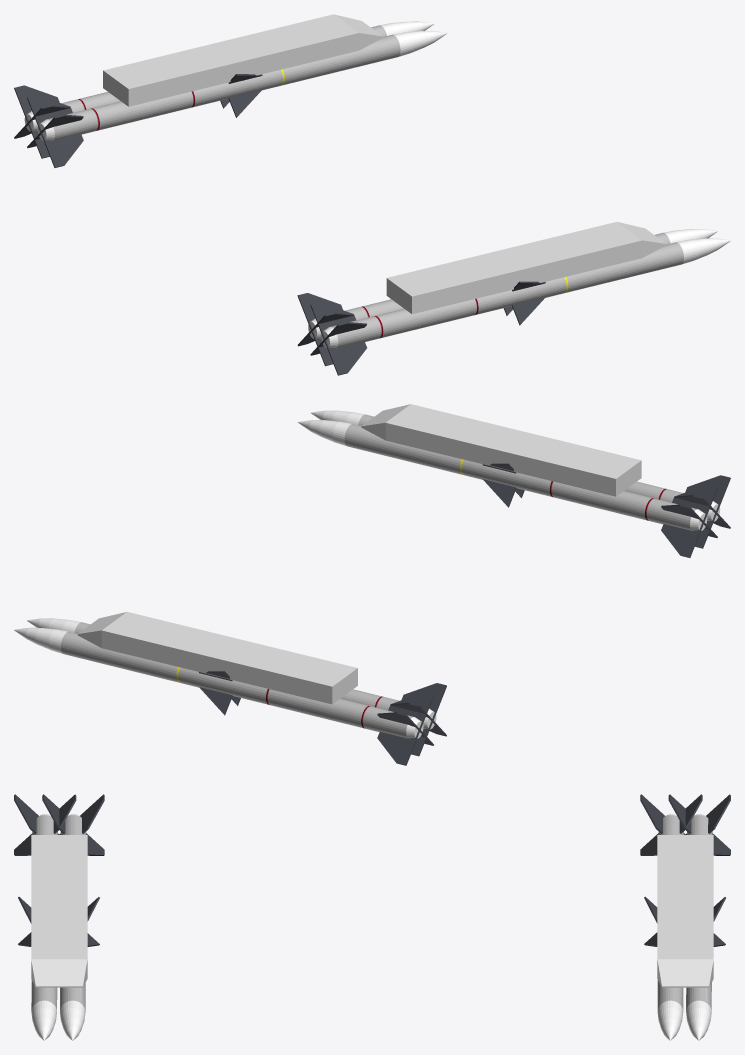
File: f15exaim120510.glb
3 renders of one model, top to bottom at view 1: azimuth 30°, elevation 25°; view 2: azimuth 150°, elevation 25°; view 3: azimuth 270°, elevation 25°, orthographic. The views are drawn at different scales.
Visible parts, largest first — view 1: 立方体.007, 立方体.008, 円柱.017, 円柱.019, 円柱.020, 円柱.018; view 2: 立方体.007, 立方体.008, 円柱.018, 円柱.020, 円柱.019, 円柱.017; view 3: 立方体.007, 立方体.008, 円柱.019, 円柱.017, 円柱.020, 円柱.018.
Boxes of the visible parts, x1,y1,x2,y2 form: 立方体.007: (386,222,666,314); 立方体.008: (103,14,383,106); 円柱.017: (310,238,730,375); 円柱.019: (27,30,447,167); 円柱.020: (14,21,434,158); 円柱.018: (297,229,717,366); 立方体.007: (361,404,641,496); 立方体.008: (77,612,357,704); 円柱.018: (297,420,717,557); 円柱.020: (14,627,433,765); 円柱.019: (27,618,446,756); 円柱.017: (311,410,730,548); 立方体.007: (31,835,87,987); 立方体.008: (657,835,713,987); 円柱.019: (640,794,702,1040); 円柱.017: (14,794,76,1040); 円柱.020: (668,794,730,1040); 円柱.018: (42,794,104,1040).
Bounding box in the file's own units: 4.39 × 0.557 × 6.07.
Materials: 4 (4 with a texture image).
